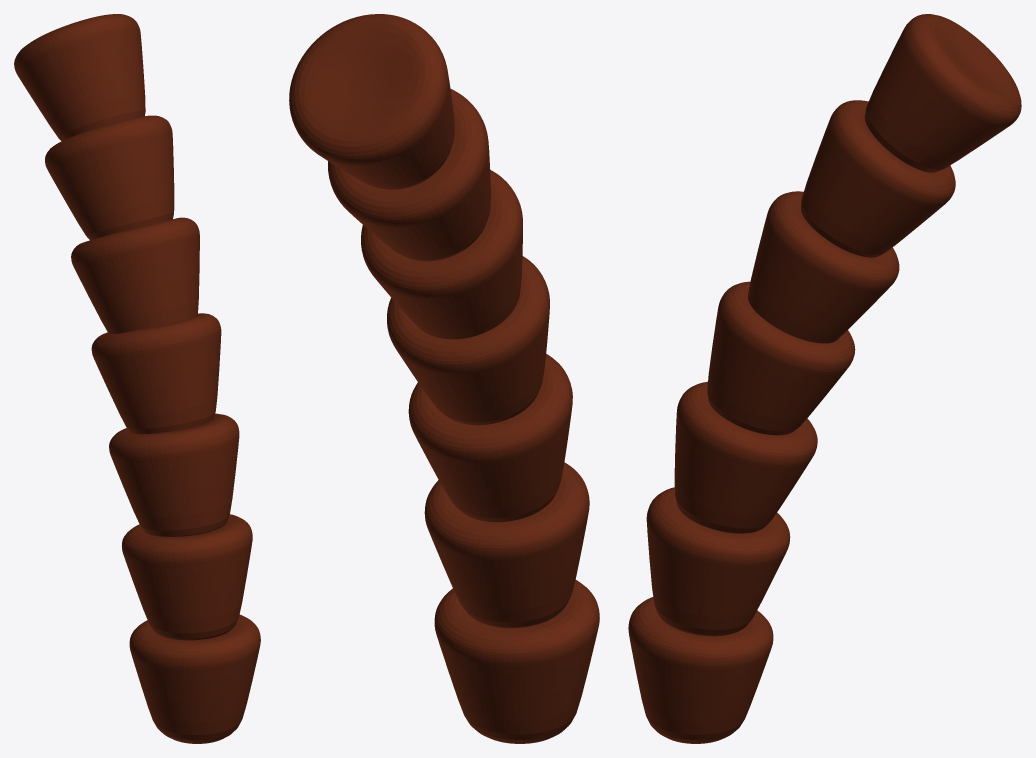
Rendered from Tronco_30_H.obj.
3 renders of one model, left to right at view 1: azimuth 30°, elevation 25°; view 2: azimuth 150°, elevation 25°; view 3: azimuth 270°, elevation 25°, orthographic. The views are drawn at different scales.
Parts seen in each view (by area): view 1: Cylinder.022_Cylinder.021; view 2: Cylinder.022_Cylinder.021; view 3: Cylinder.022_Cylinder.021.
Part boxes in pixels (box(x1,y1,x2,y2)): Cylinder.022_Cylinder.021: box(14, 14, 260, 743); Cylinder.022_Cylinder.021: box(289, 14, 599, 743); Cylinder.022_Cylinder.021: box(628, 14, 1021, 743).
Size of the model in its own units: 10.68 by 57.46 by 28.85.
